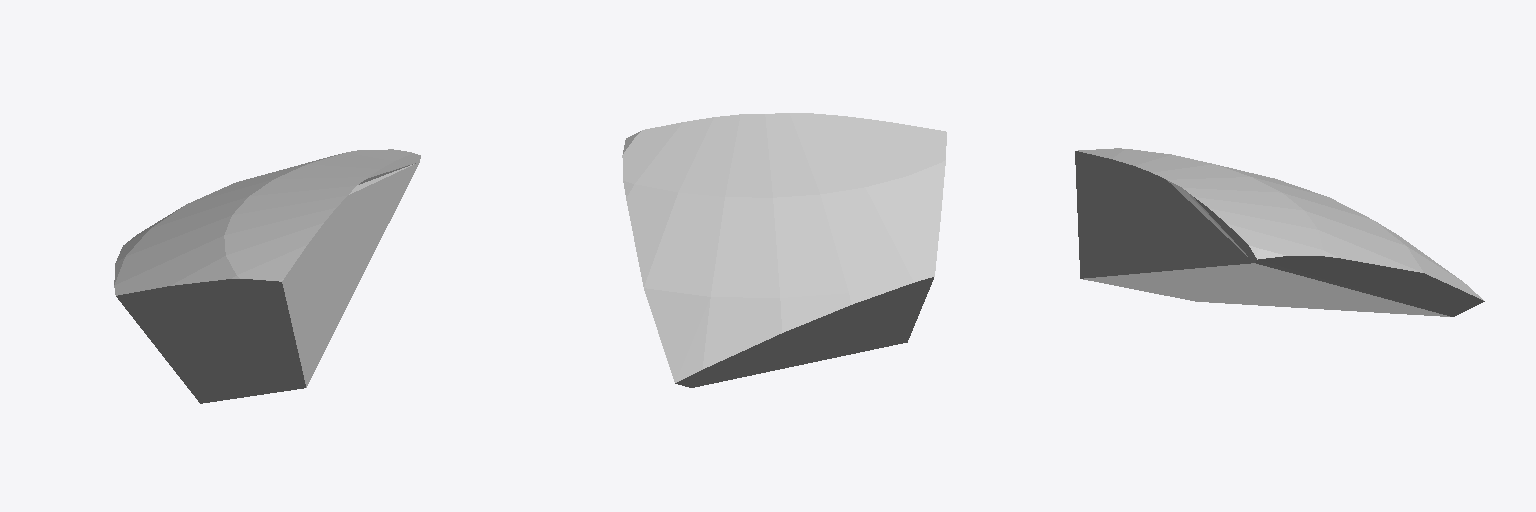
File: Sphere_Cell_Fracture41.obj
3 renders of one model, left to right at view 1: azimuth 30°, elevation 25°; view 2: azimuth 150°, elevation 25°; view 3: azimuth 270°, elevation 25°, orthographic.
Bounding box in the file's own units: 0.5546 × 0.3221 × 0.6413.